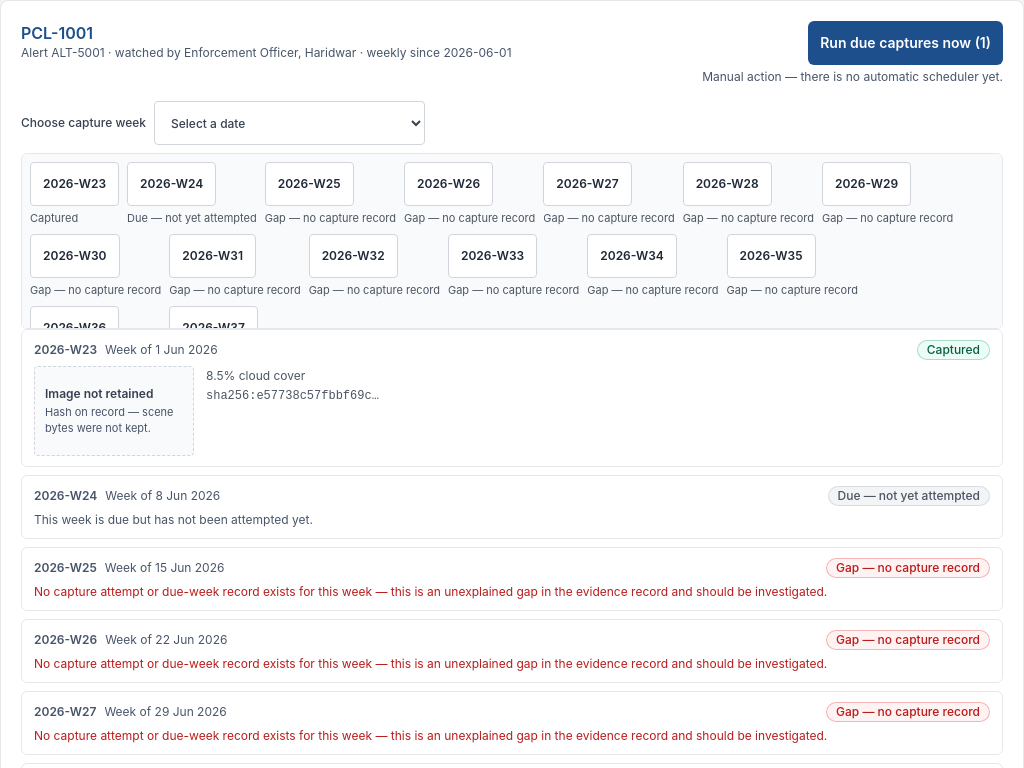
Test case: WatchlistEntryCard › shows the refusal detail on failure without touching the timeline
What coordinates should you click on to do the following:
click the button with aria-label "Run due captures now for PCL-1001 (1 due)"
I would click on:
 (906, 43)
Its box is [808,21,1003,65].
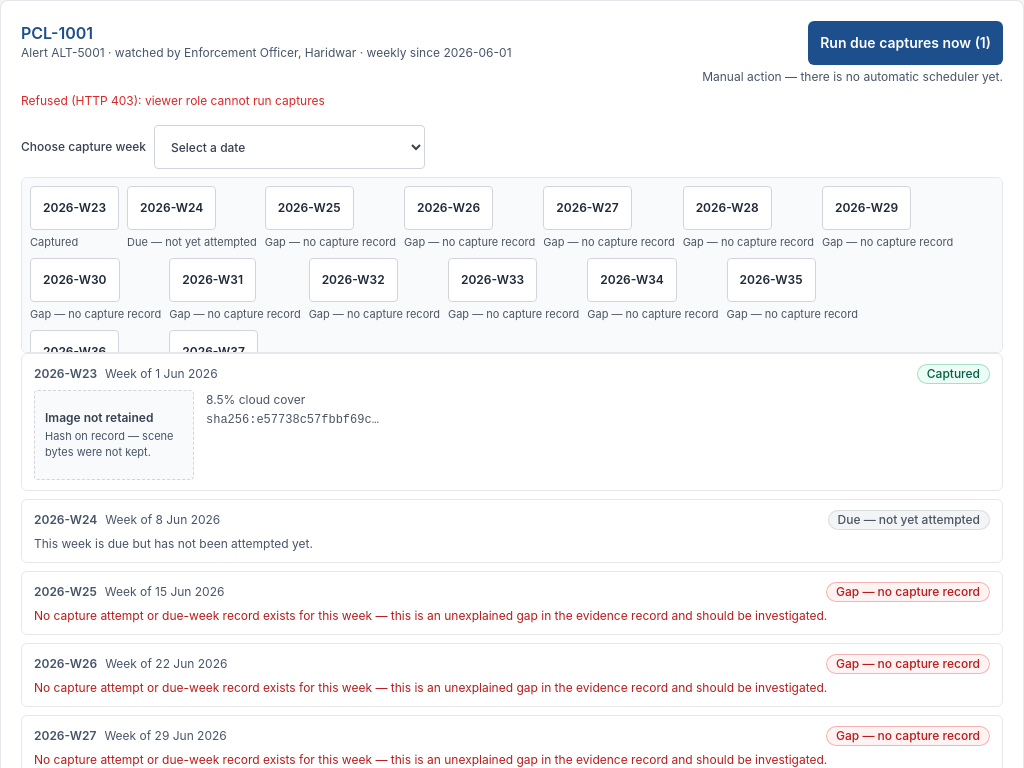
Expected: the text with test id "run-captures-error" reads "Refused (HTTP 403): viewer role cannot run captures", [21,93,325,108]
